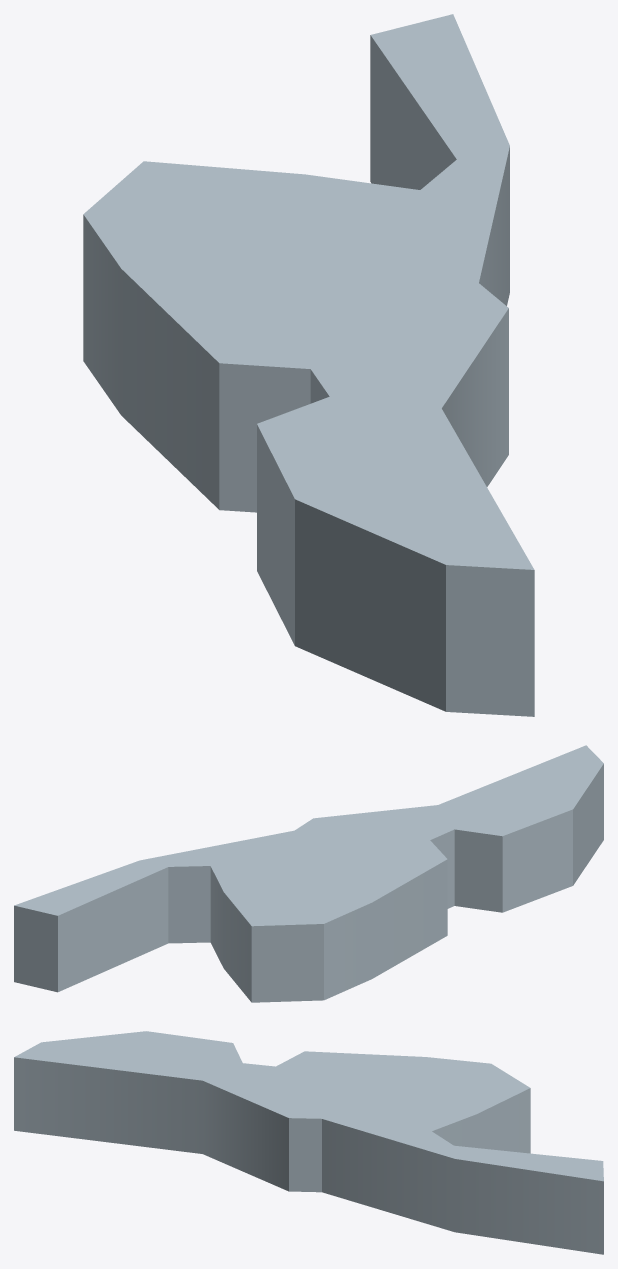
Rendered from taitung.glb.
The picture shows the model from 3 angles, top to bottom: view 1: azimuth 30°, elevation 25°; view 2: azimuth 150°, elevation 25°; view 3: azimuth 270°, elevation 25°; orthographic projection. The views are drawn at different scales.
Visible parts, largest first — view 1: map_geo Taitung_geo; view 2: map_geo Taitung_geo; view 3: map_geo Taitung_geo.
Boxes of the visible parts, x1,y1,x2,y2 form: map_geo Taitung_geo: (83,14,534,716); map_geo Taitung_geo: (14,745,603,1002); map_geo Taitung_geo: (14,1031,603,1254).
Bounding box in the file's own units: 1.22 × 0.2781 × 2.02.
Materials: 1 (1 with a texture image).
